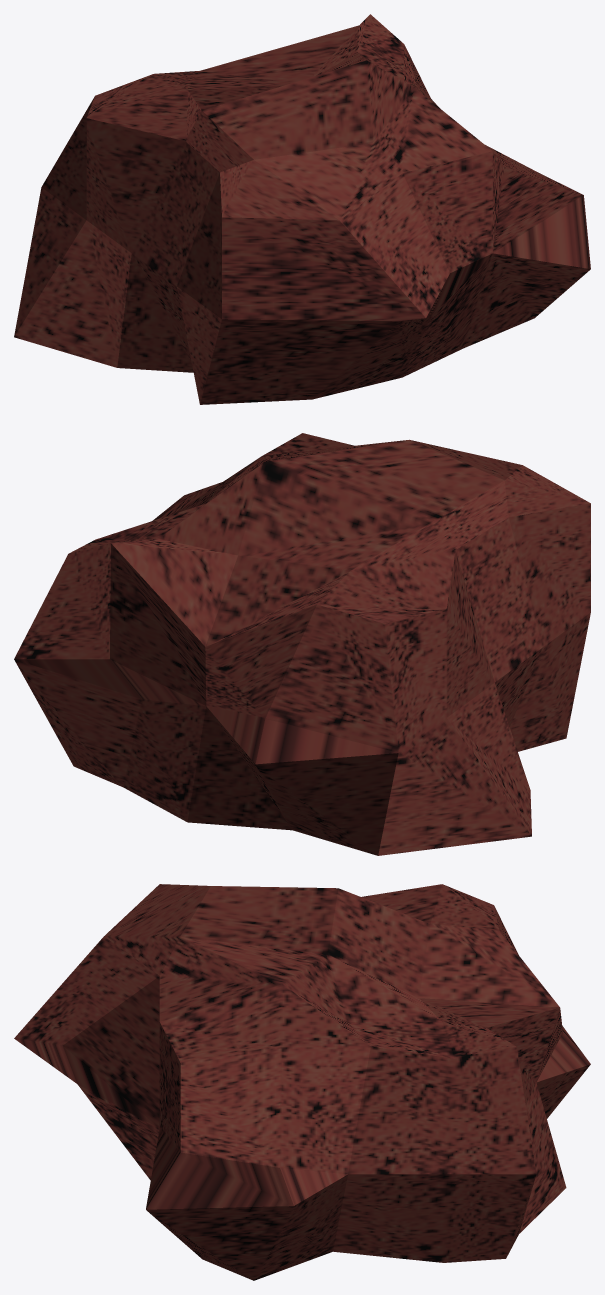
File: iron.glb
The picture shows the model from 3 angles, top to bottom: view 1: azimuth 30°, elevation 25°; view 2: azimuth 150°, elevation 25°; view 3: azimuth 270°, elevation 25°; orthographic projection. The views are drawn at different scales.
Visible parts, largest first — view 1: Cube; view 2: Cube; view 3: Cube.
Part boxes in pixels (box(x1,y1,x2,y2)): Cube: box(14, 14, 590, 404); Cube: box(14, 433, 590, 855); Cube: box(14, 884, 590, 1280).
Bounding box in the file's own units: 0.5 × 0.25 × 0.5.
Materials: 1 (1 with a texture image).
